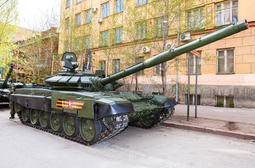t72: (14, 26, 237, 144)
